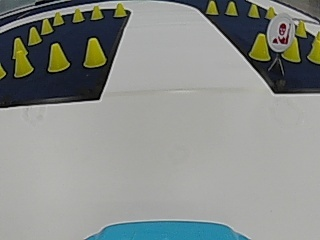evil: (266, 15, 294, 51)
